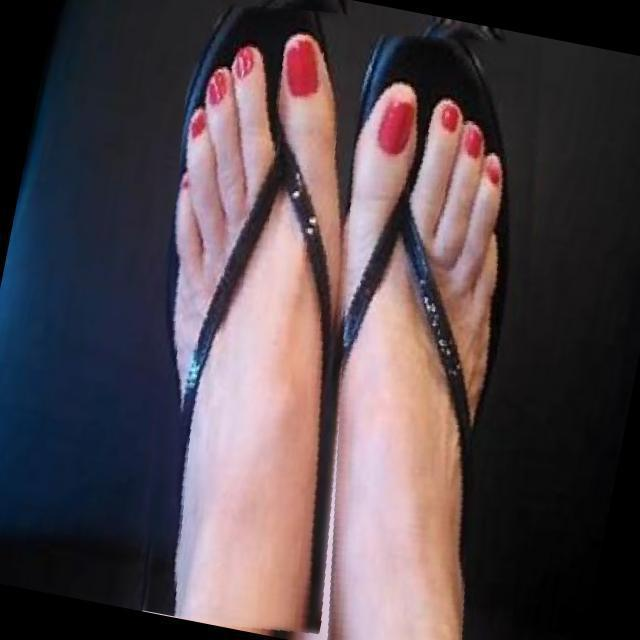No_Shoes: (111, 32, 363, 562), (361, 51, 504, 605)
